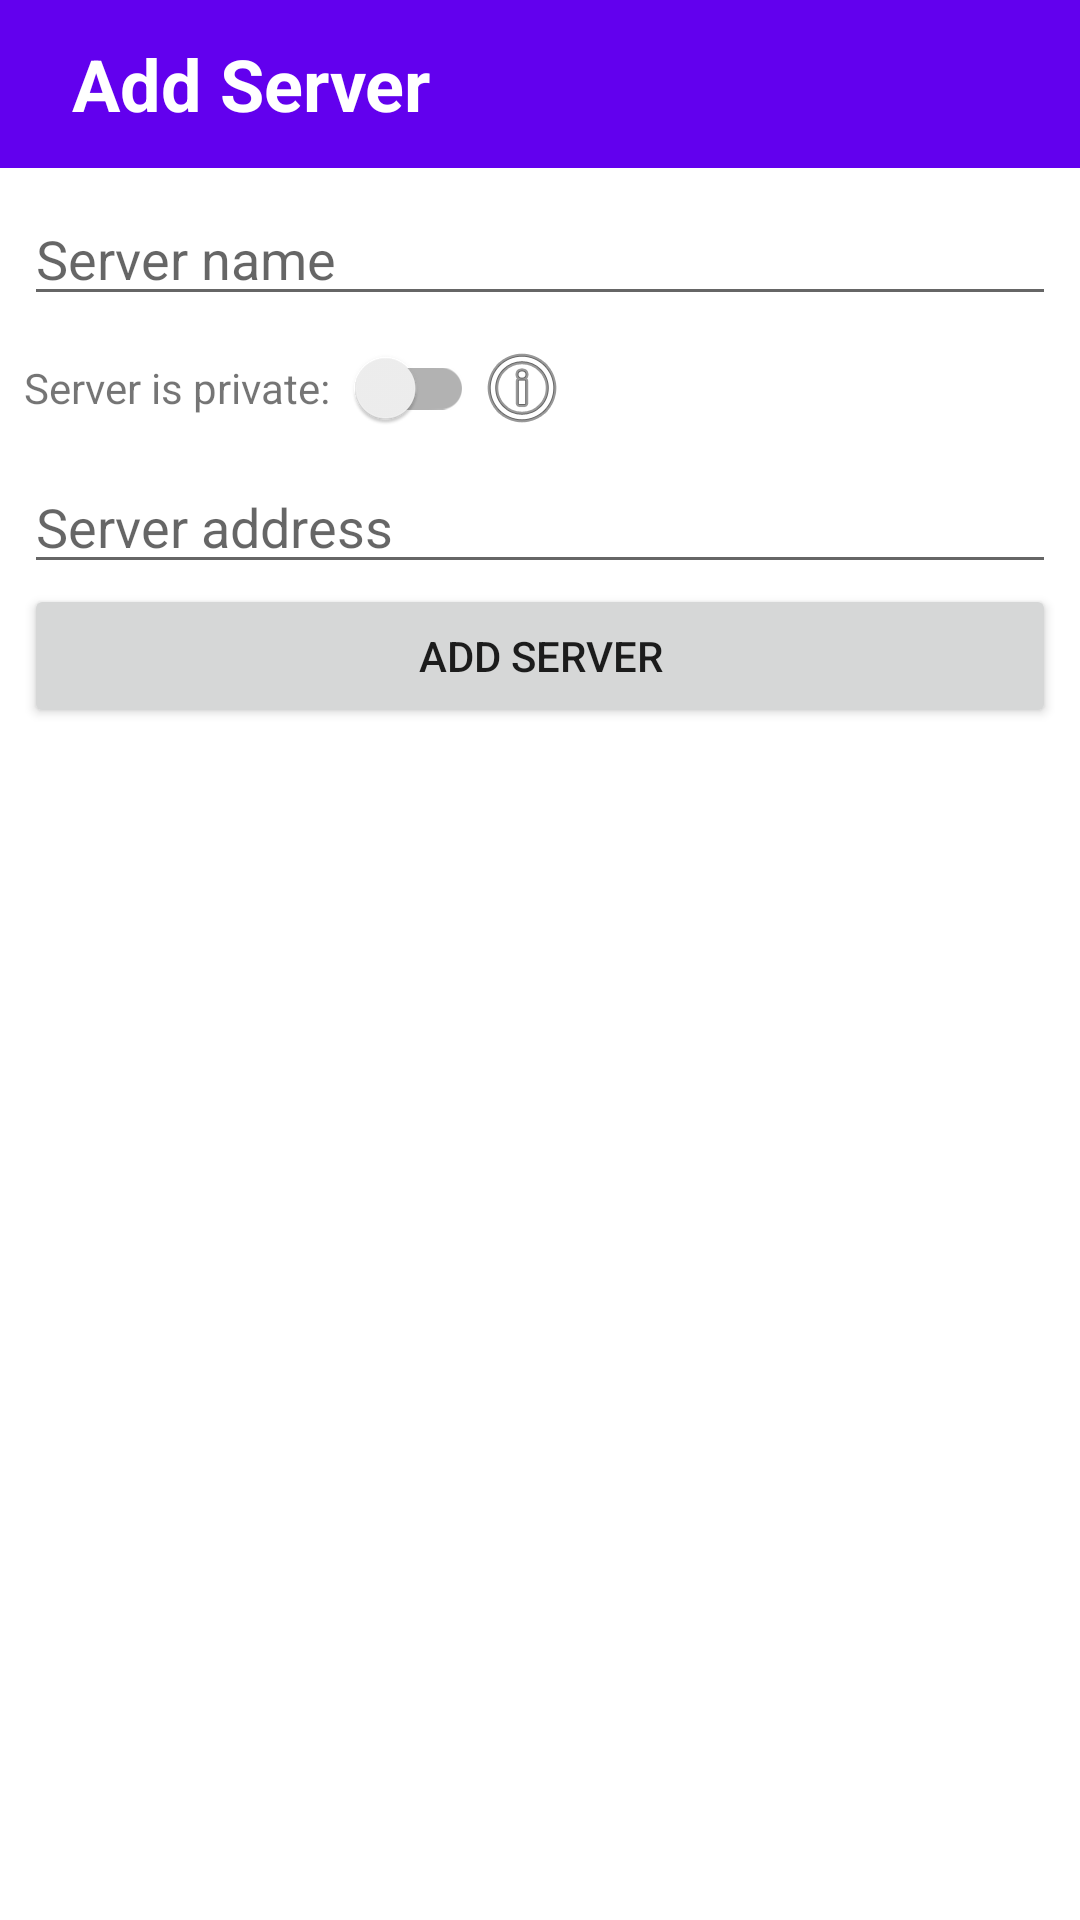

Icons on this 1080px x 1920px Android screen, each with the point to tap as (x=x, y=y):
Info about server public/private setting: (x=522, y=388)
